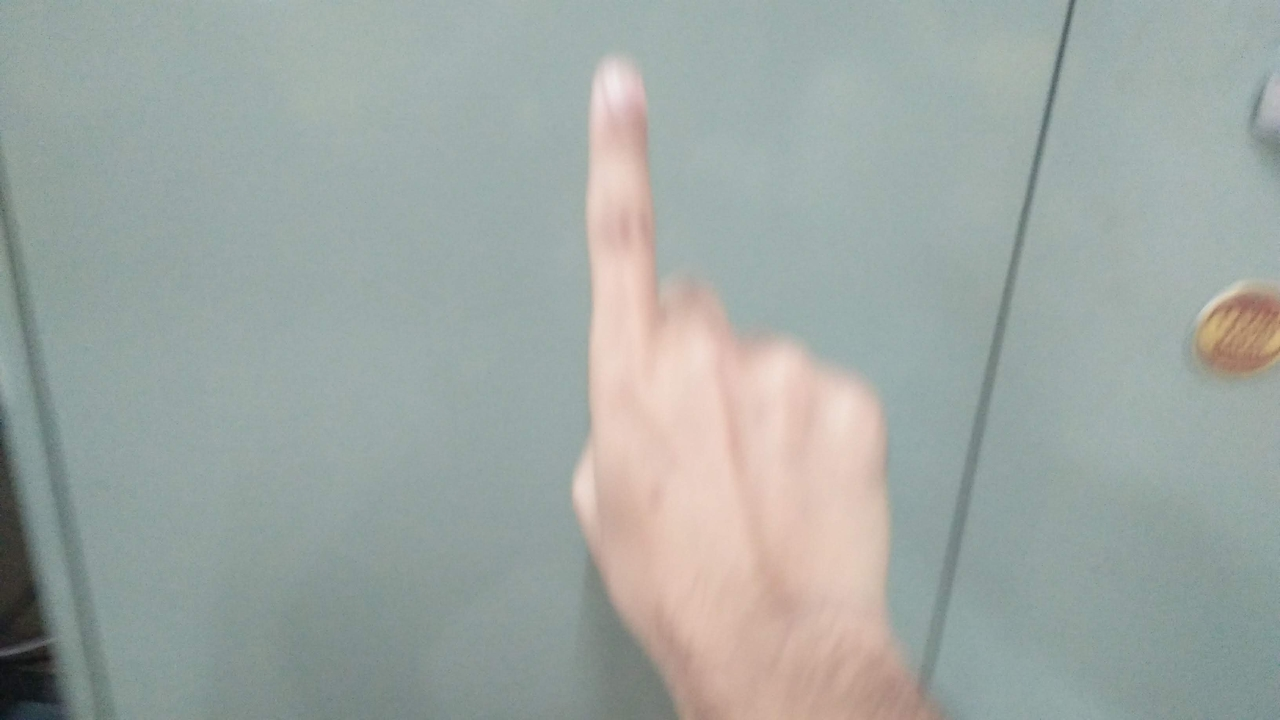fingertip: (586, 48, 646, 110)
